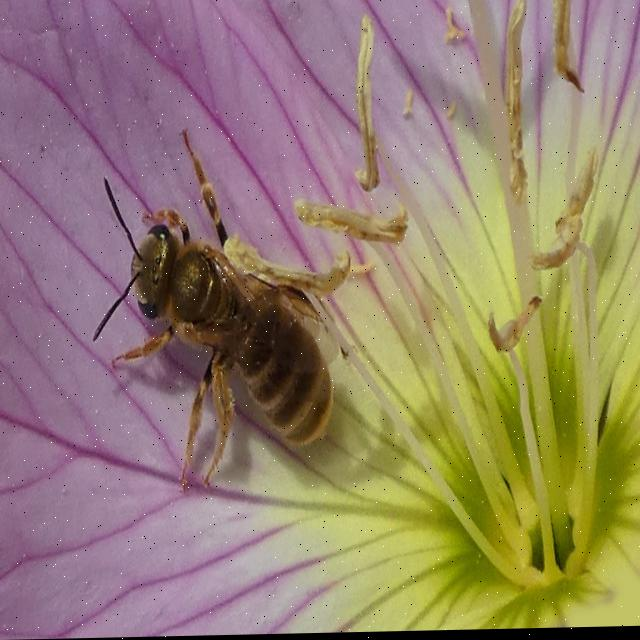Lasioglossum: (81, 120, 357, 553)
